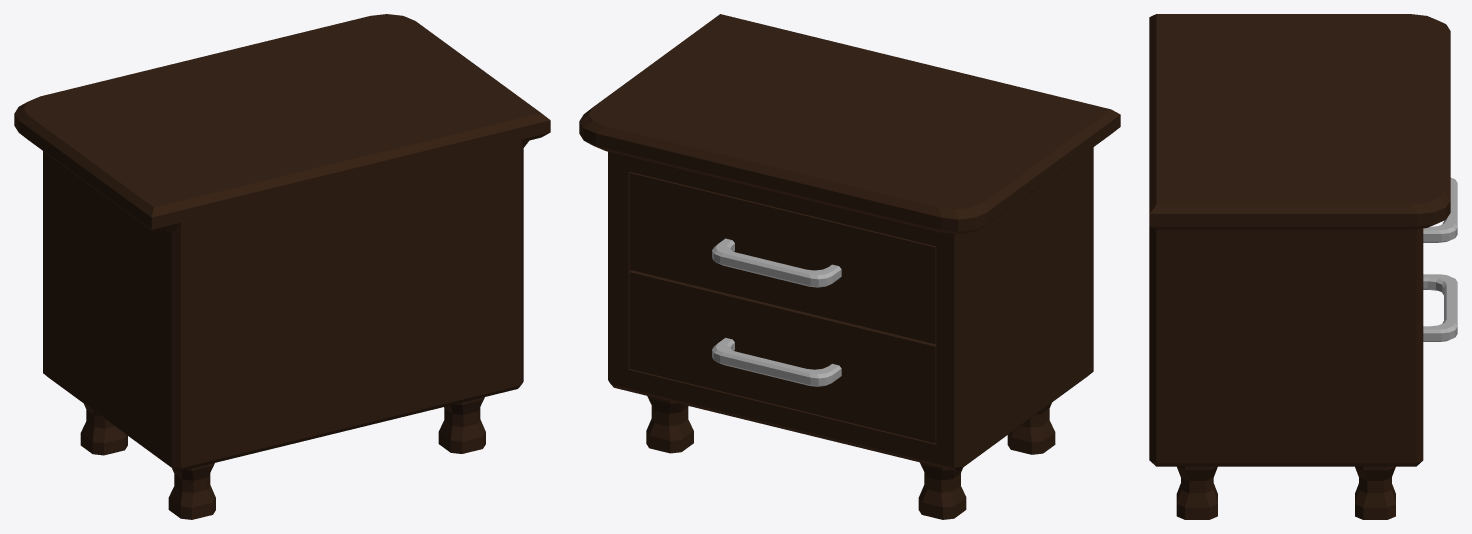
File: Lair project - Night stand UV.fbx
3 renders of one model, left to right at view 1: azimuth 30°, elevation 25°; view 2: azimuth 150°, elevation 25°; view 3: azimuth 270°, elevation 25°, orthographic.
Visible parts, largest first — view 1: Night stand; view 2: Night stand; view 3: Night stand.
Part boxes in pixels (x1,y1,x2,y2): Night stand: [14, 14, 550, 519]; Night stand: [579, 14, 1120, 519]; Night stand: [1149, 14, 1457, 519].
Bounding box in the file's own units: 68 × 45 × 54.
